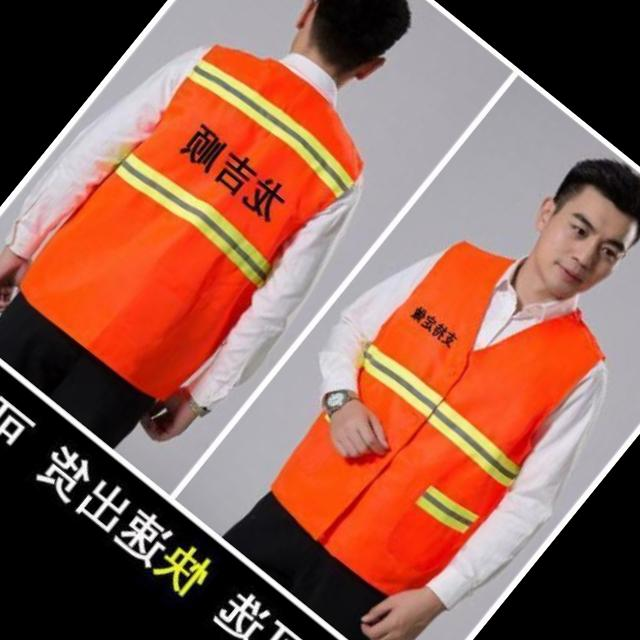safety_vest: (3, 10, 396, 422), (249, 218, 630, 622)
vehicle: (183, 82, 640, 640), (0, 0, 504, 485)
